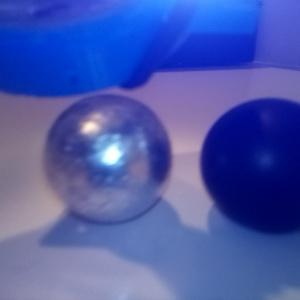alive_ball: (44, 94, 172, 225)
dead_ball: (199, 97, 300, 234)
